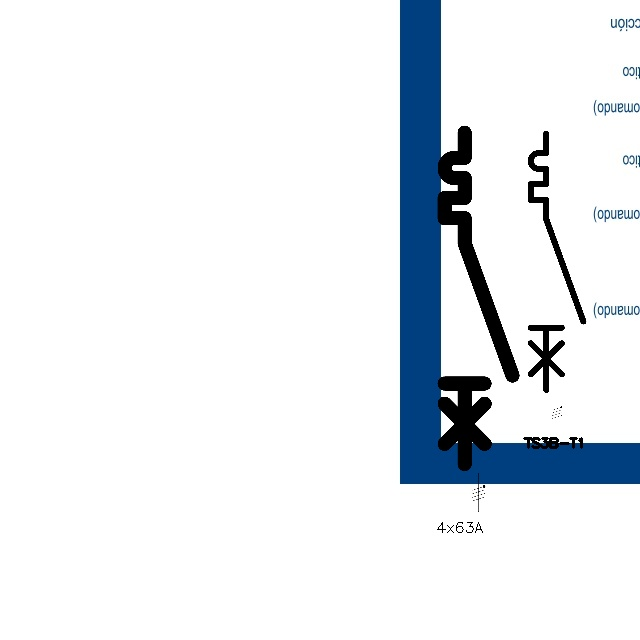interruptor_termomagnetico: (436, 124, 521, 472), (524, 127, 590, 397)
